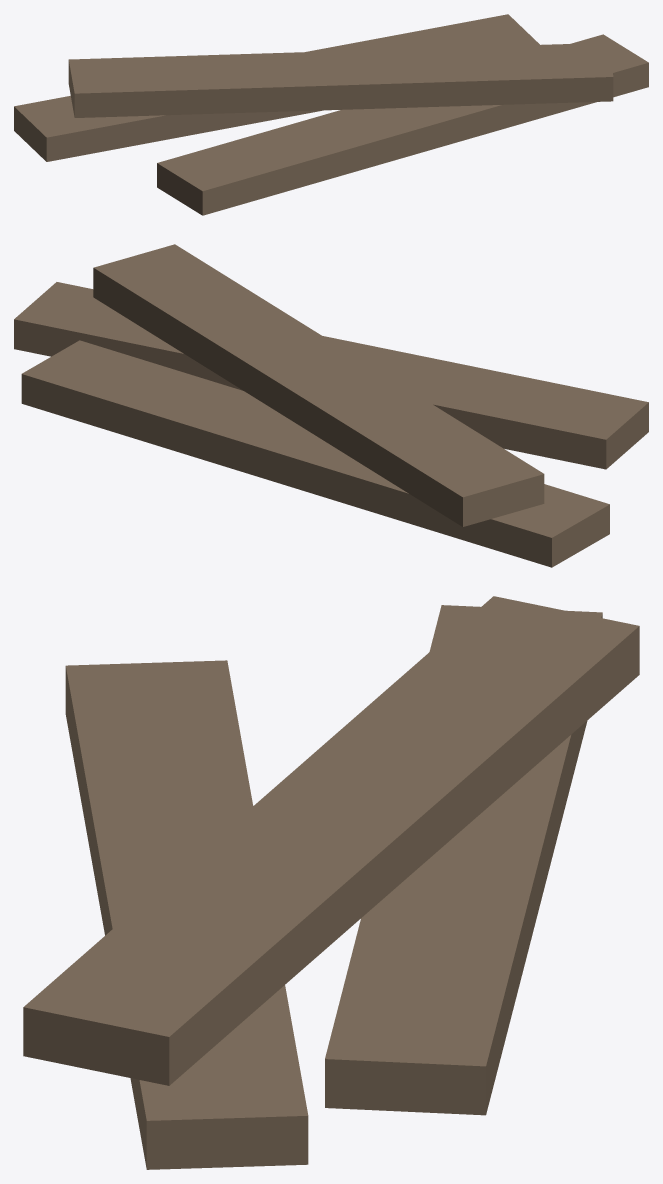
File: planks.obj
3 renders of one model, top to bottom at view 1: azimuth 30°, elevation 25°; view 2: azimuth 150°, elevation 25°; view 3: azimuth 270°, elevation 25°, orthographic. The views are drawn at different scales.
Bounding box in the file's own units: 1.13 × 0.1 × 0.5703.
